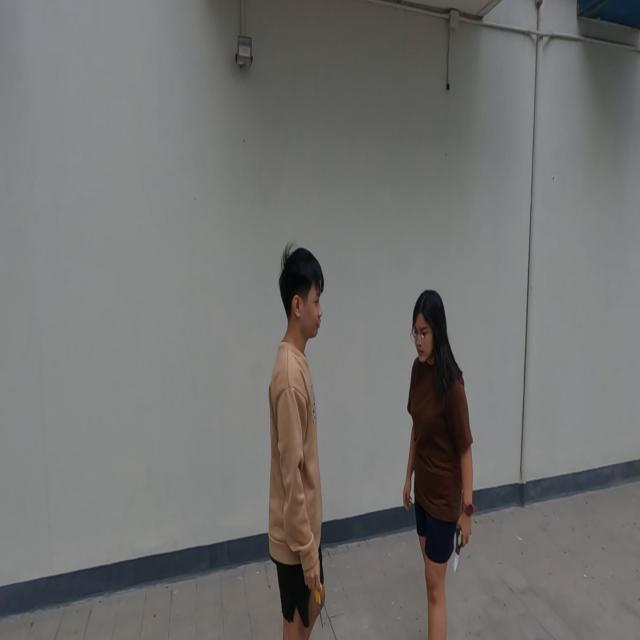scissor: (312, 579, 324, 629), (454, 524, 463, 574)
